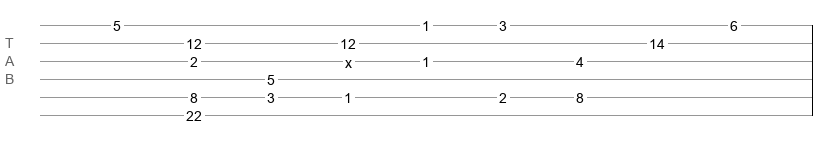1: (344, 90, 352, 100), (422, 54, 430, 64), (422, 18, 430, 28)
12: (186, 36, 202, 46), (340, 36, 356, 46)
14: (649, 36, 665, 46)
2: (190, 54, 198, 64), (499, 90, 507, 100)
22: (186, 108, 202, 118)
3: (267, 90, 275, 100), (499, 18, 507, 28)
4: (576, 54, 584, 64)
5: (113, 18, 121, 28), (267, 72, 275, 82)
6: (730, 18, 738, 28)
8: (190, 90, 198, 100), (576, 90, 584, 100)
x: (345, 55, 352, 63)
